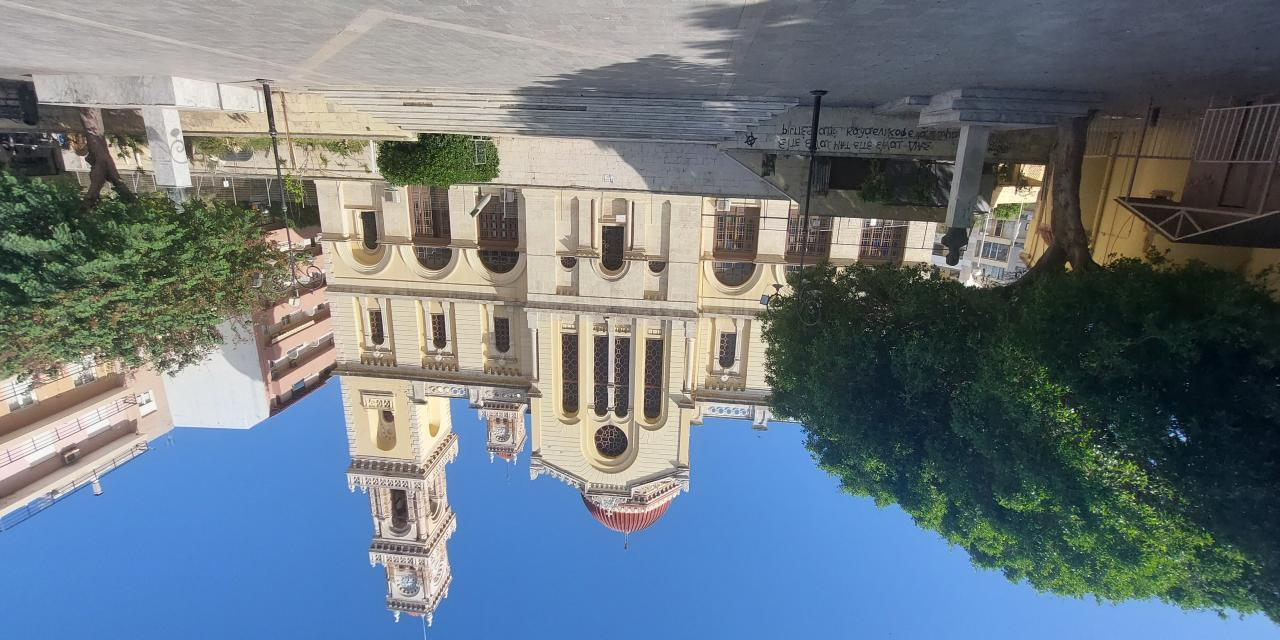Agios Minas: (314, 198, 940, 630)
